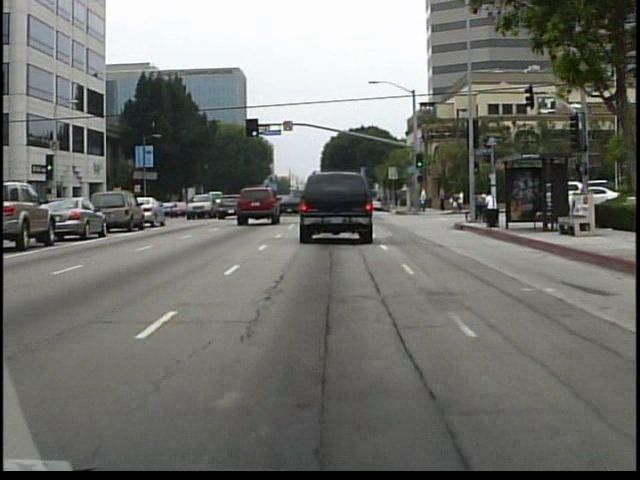person: (418, 184, 431, 216), (437, 181, 449, 214), (395, 189, 401, 209)
